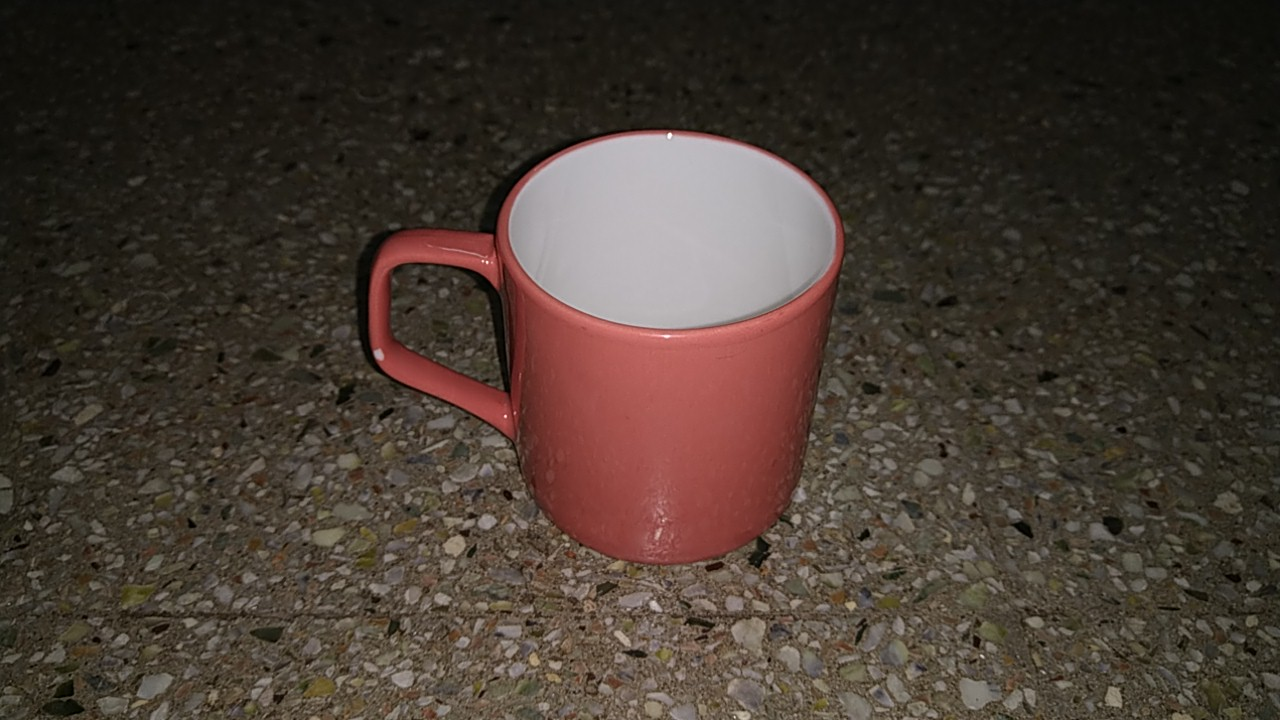cup: (352, 117, 874, 607)
